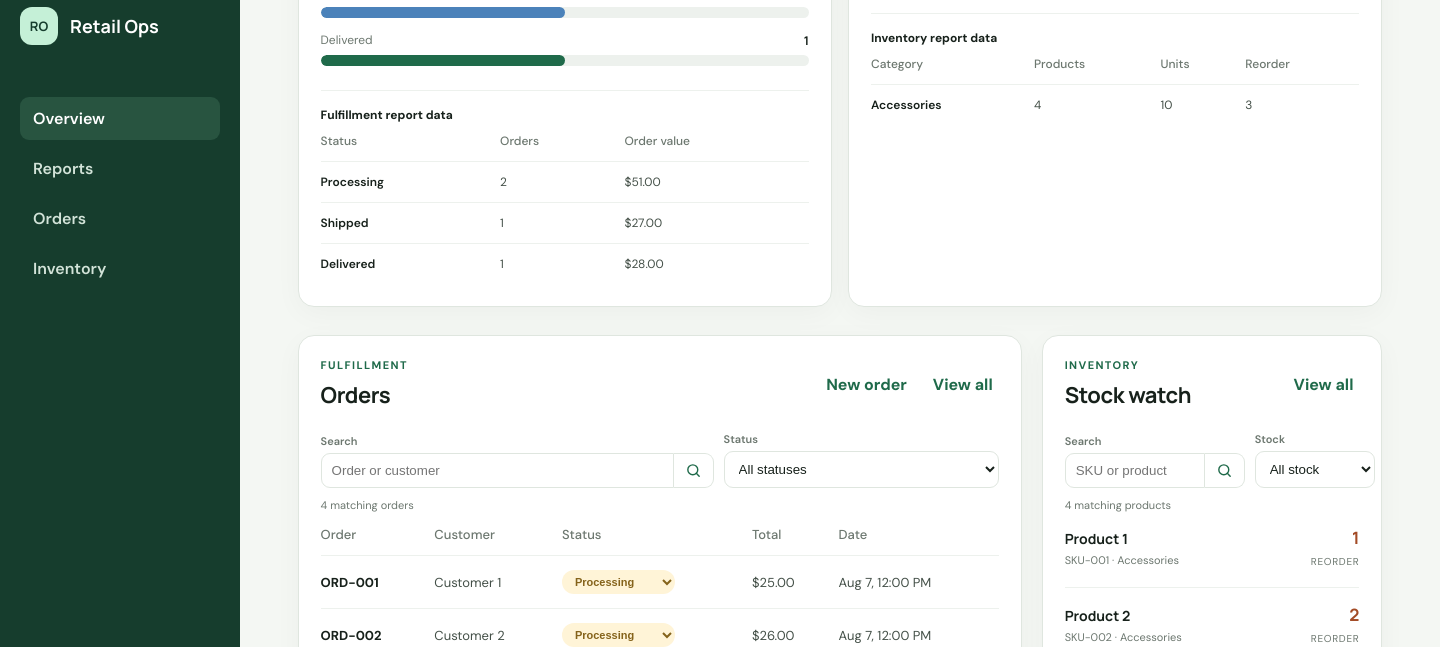
it: App › creates an order from the dashboard form
(page scrolled)
Expected: the text "ORD-001" is shown, [321,556,434,608]
Click the button "New order" at (867, 384), box [820,372,913,396]
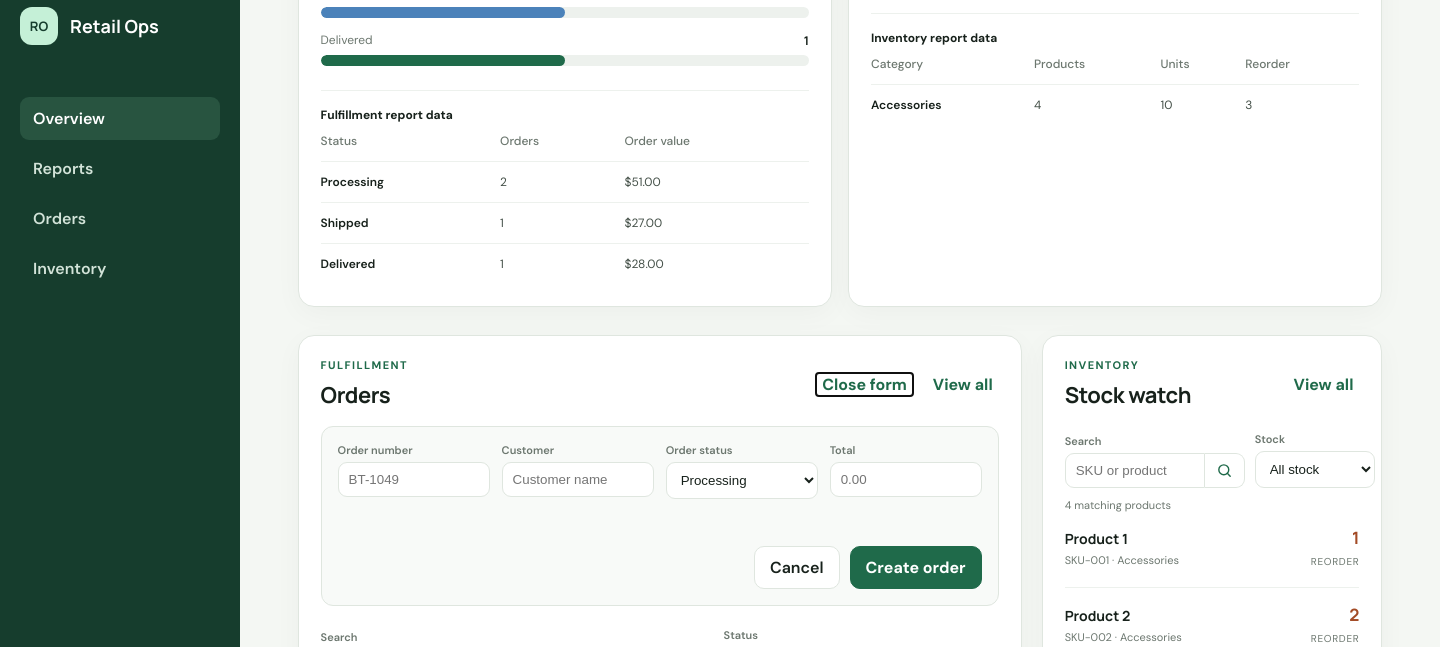
Type "1049" into the field labelled "Order number" at (414, 480), box [338,462,490,497]
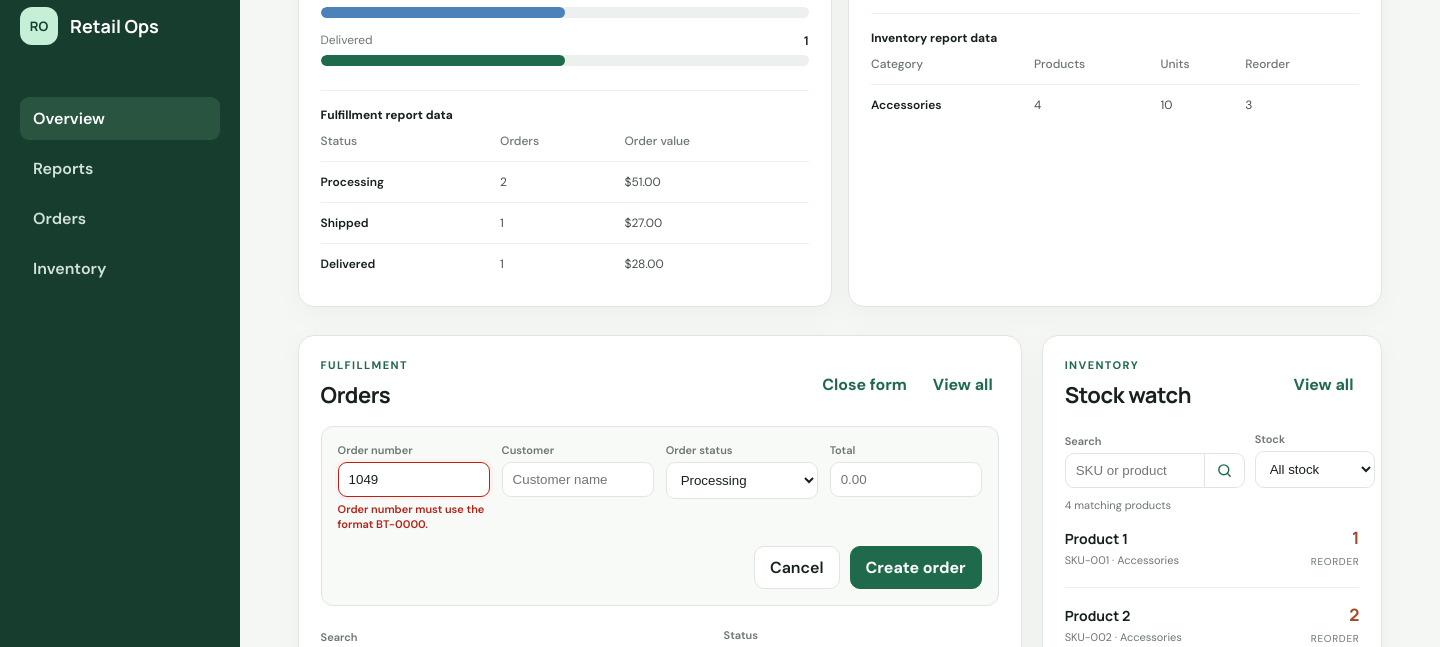
Expected: the message reads "Order number must use the format BT-0000.", [338,502,484,531]
Replace the text in the field labelled "Order number" with "bt-1049" at (414, 480), box [338,462,490,497]
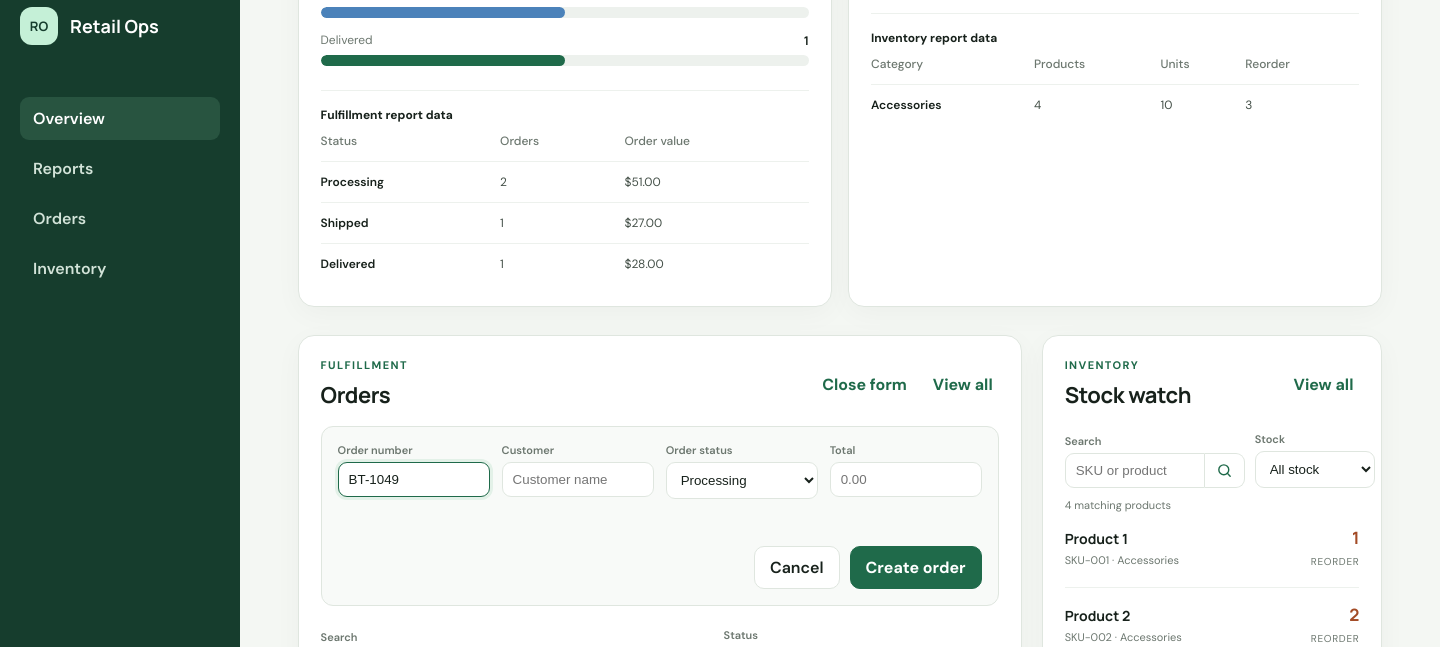
Expected: the field labelled "Order number" is not marked as invalid, [338,462,490,497]
Type "Sample Customer F" into the field labelled "Customer" at (578, 480), box [502,462,654,497]
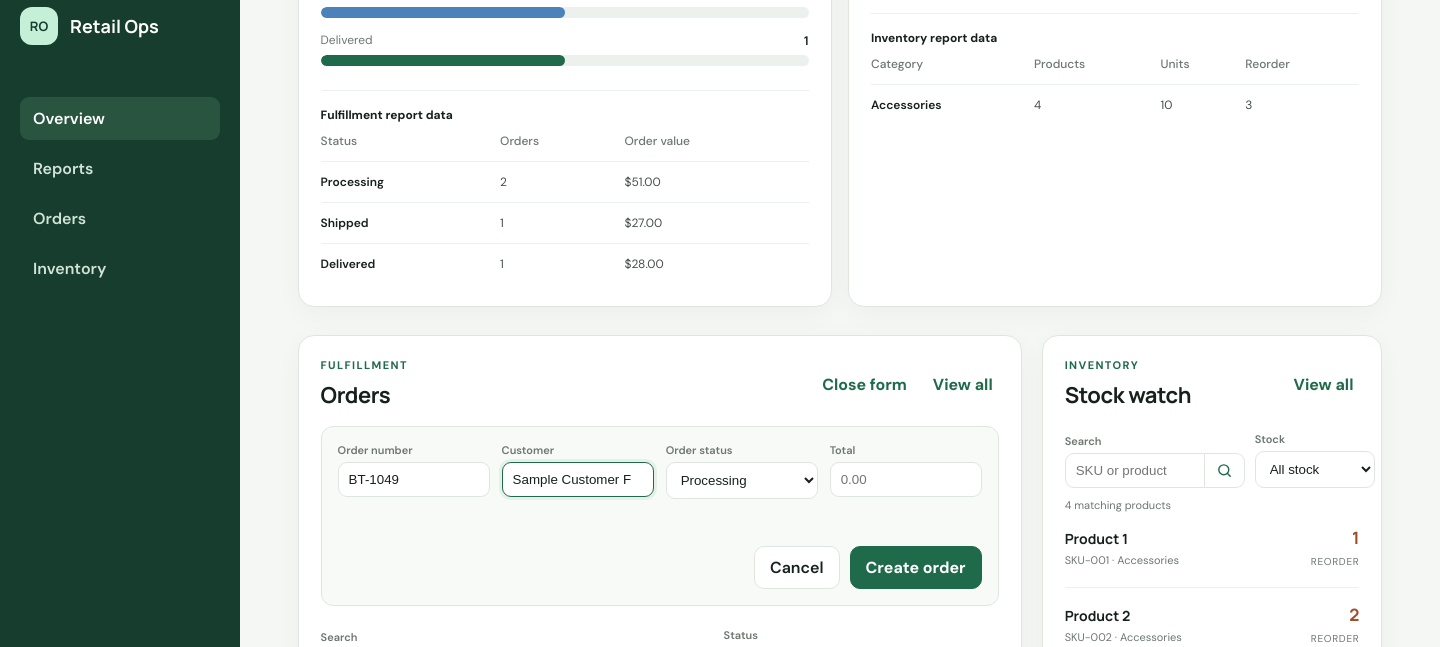
Type "84.50" into the number field labelled "Total" at (906, 480), box [830,462,982,497]
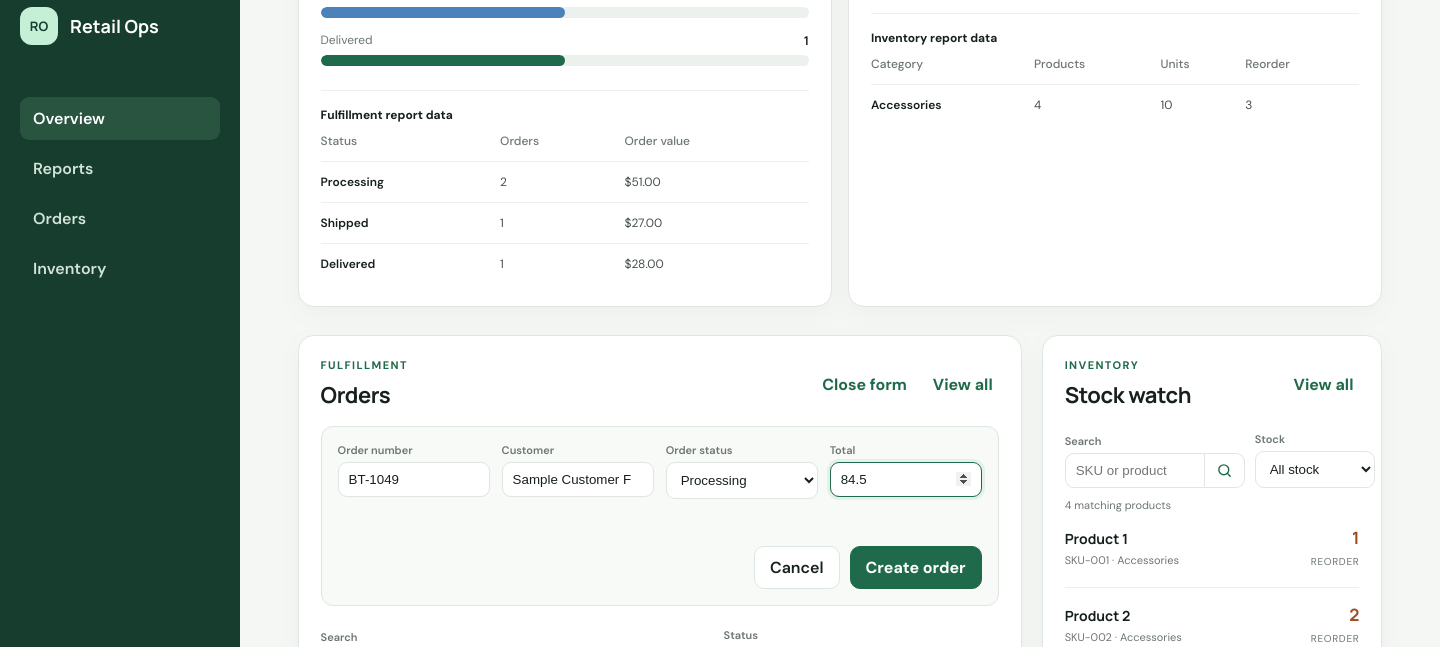
Click the button "Create order" at (916, 567), box [850,546,982,589]
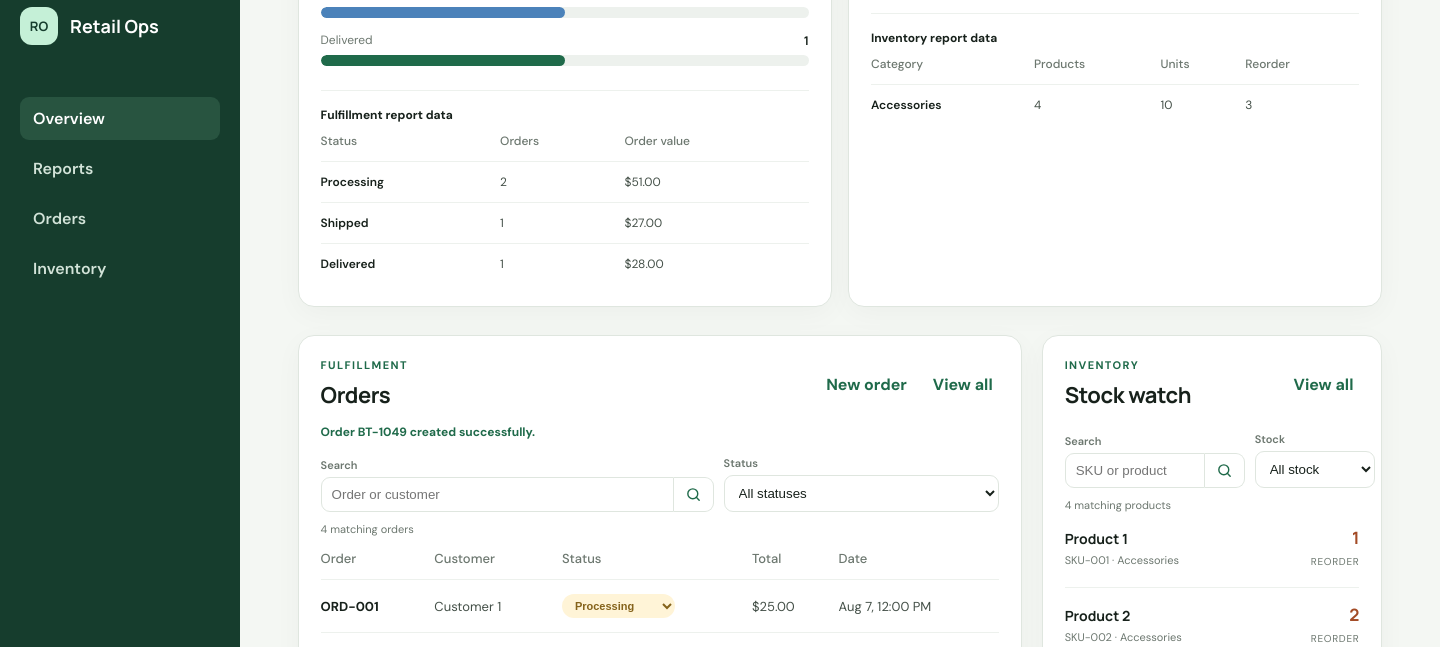
Expected: the message reads "Order BT-1049 created successfully.", [321,424,535,440]
